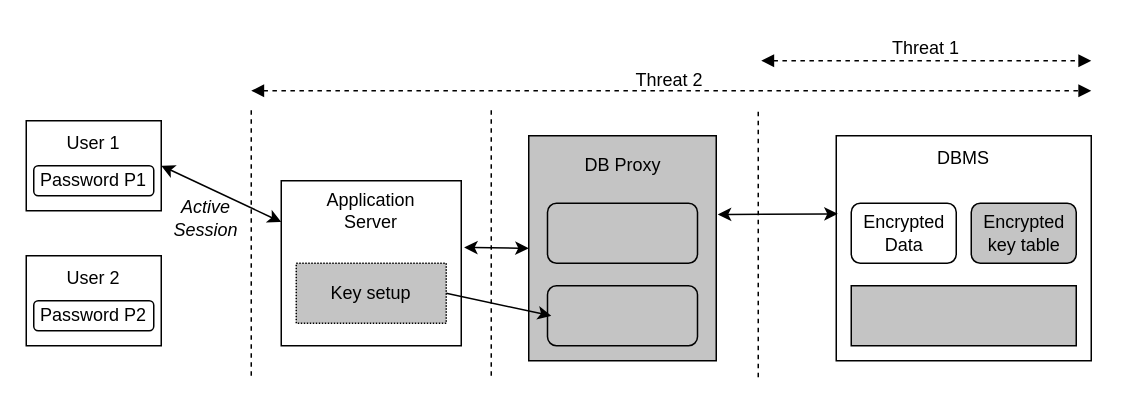
Image size: 1131x405. Some labels were removed from this diagram. The shapes that lost their labels are listed below. From the top down, each one's centre as x and y in pixels, then its label:
At point 622,232: "Annotated Schema".
At point 622,315: "Active Keys: P1".
At point 963,315: "CryptDB user defined functions".
